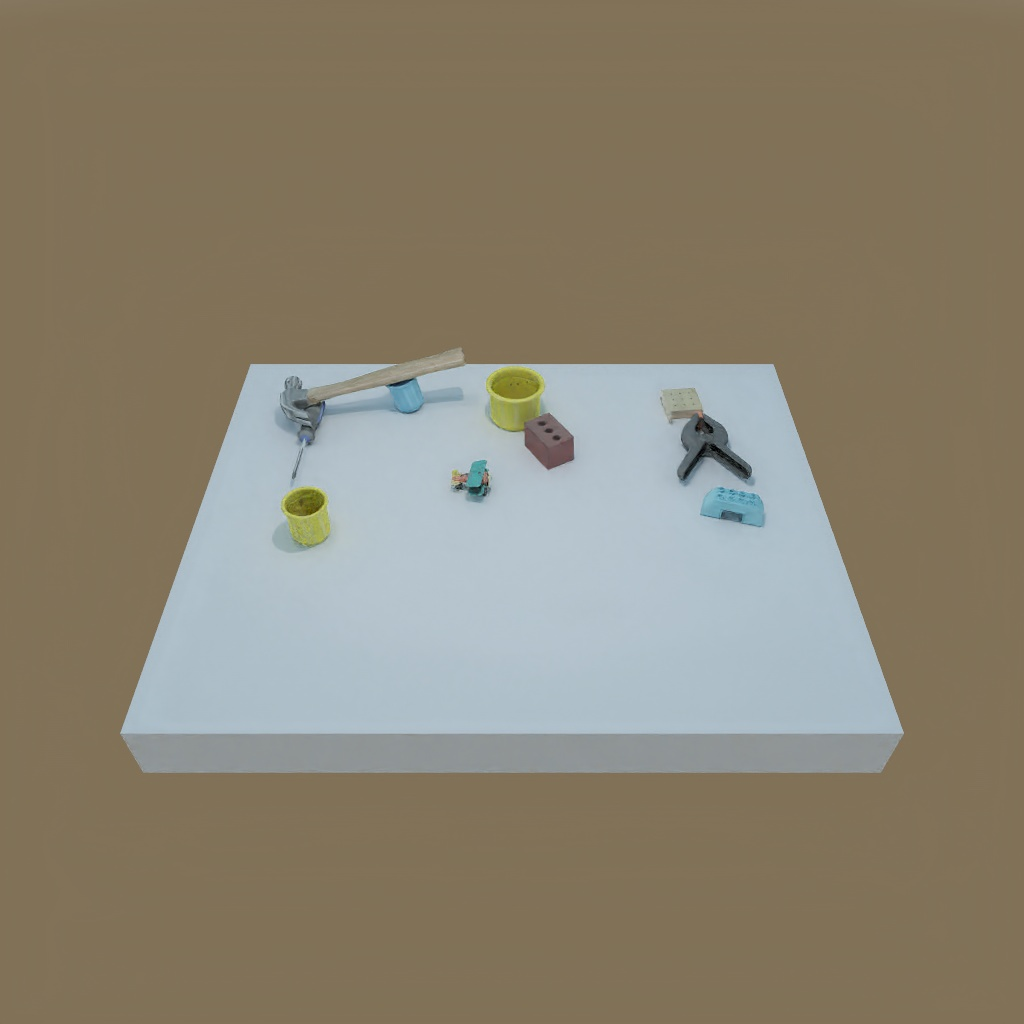hammer: (275, 348, 460, 418)
nine_hole_peg_test: (655, 385, 702, 423)
